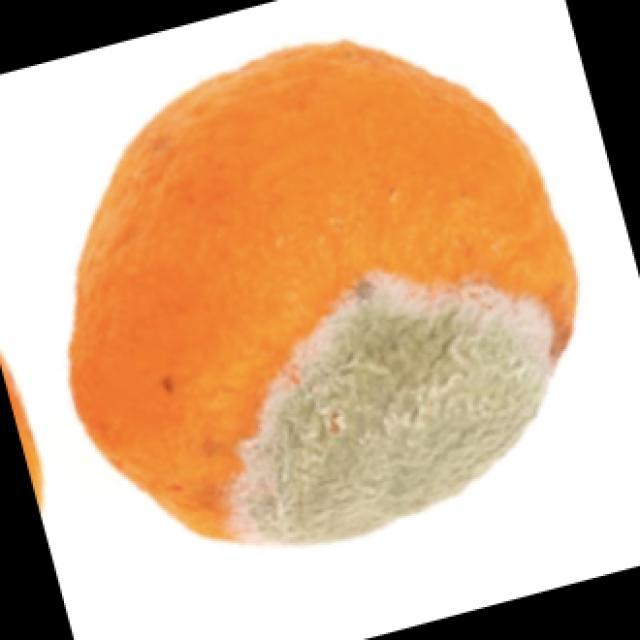sedikit-busuk: (70, 42, 576, 542), (232, 274, 552, 542)
